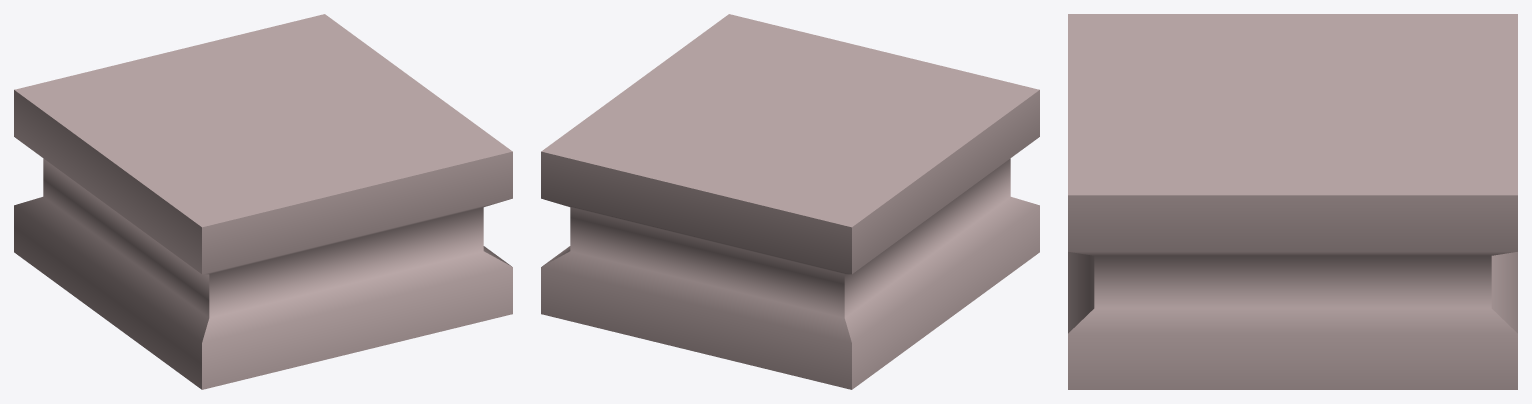
Rendered from BPillarTrimL.fbx.
3 renders of one model, left to right at view 1: azimuth 30°, elevation 25°; view 2: azimuth 150°, elevation 25°; view 3: azimuth 270°, elevation 25°, orthographic. The views are drawn at different scales.
Visible parts, largest first — view 1: BPillarTrimL; view 2: BPillarTrimL; view 3: BPillarTrimL.
Boxes of the visible parts, left/top/right/bottom form: BPillarTrimL: left=14, top=14, right=512, bottom=389; BPillarTrimL: left=541, top=14, right=1039, bottom=389; BPillarTrimL: left=1068, top=14, right=1517, bottom=389.
Bounding box in the file's own units: 200 × 100 × 210.
